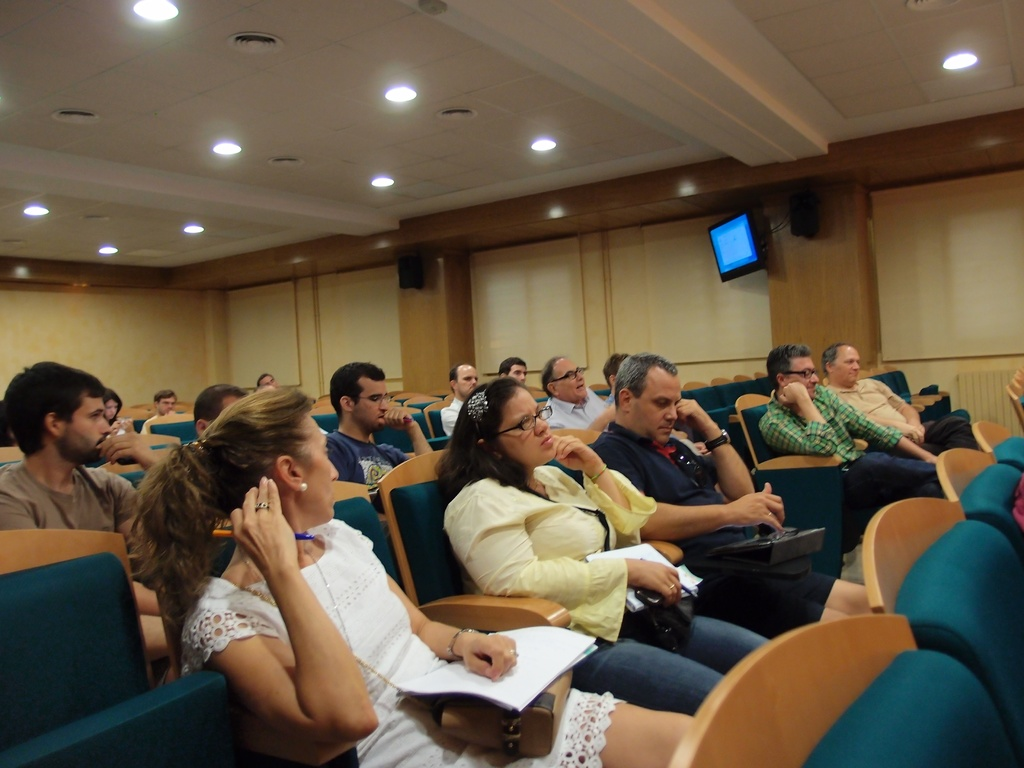Human_hand: (190, 497, 363, 743), (227, 472, 300, 577), (457, 627, 518, 683), (730, 479, 787, 536), (629, 556, 685, 609), (551, 429, 605, 479), (95, 433, 156, 468), (675, 397, 717, 435), (380, 406, 417, 437), (777, 381, 812, 412), (897, 422, 922, 450), (913, 422, 928, 440), (121, 420, 136, 430), (925, 457, 937, 466), (112, 420, 121, 430)
